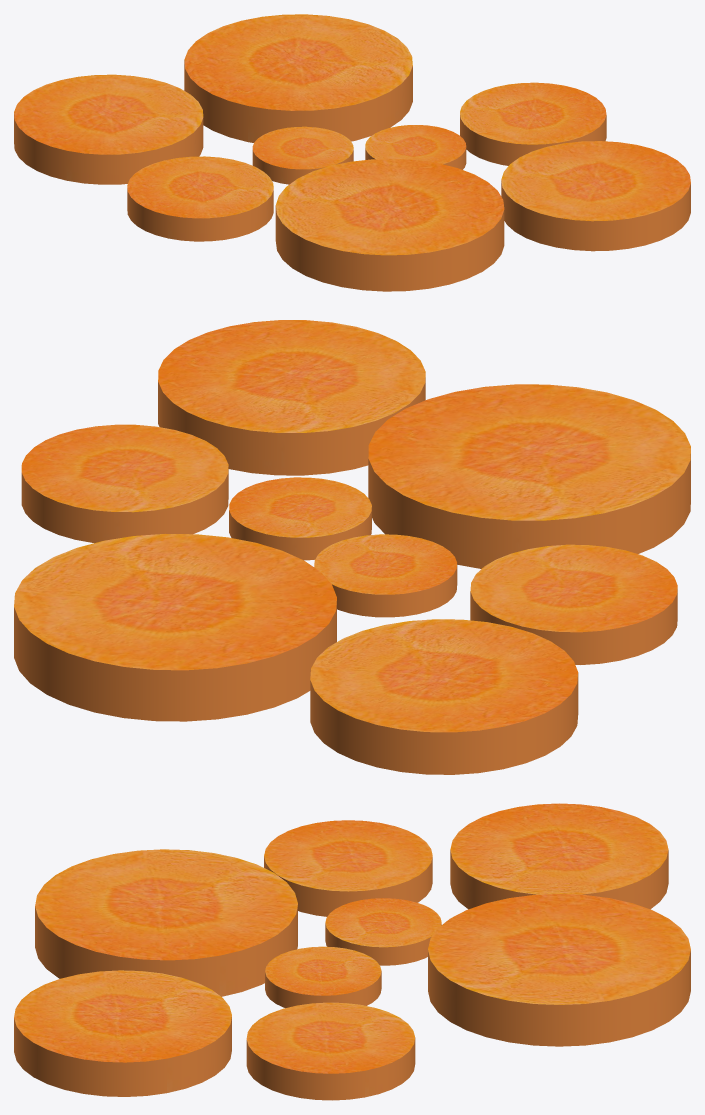
The model's file is potongan wortel-banyak.fbx.
3 renders of one model, top to bottom at view 1: azimuth 30°, elevation 25°; view 2: azimuth 150°, elevation 25°; view 3: azimuth 270°, elevation 25°, orthographic. The views are drawn at different scales.
Visible parts, largest first — view 1: Cylinder.004, Cylinder, Cylinder.005, Cylinder.001, Cylinder.003, Cylinder.007, Cylinder.002, Cylinder.006; view 2: Cylinder, Cylinder.004, Cylinder.001, Cylinder.005, Cylinder.007, Cylinder.003, Cylinder.002, Cylinder.006; view 3: Cylinder, Cylinder.004, Cylinder.005, Cylinder.001, Cylinder.007, Cylinder.003, Cylinder.006, Cylinder.002.
Part boxes in pixels (x1=…): Cylinder.004: x1=275, y1=158, x2=504, y2=291; Cylinder: x1=184, y1=14, x2=412, y2=142; Cylinder.005: x1=501, y1=141, x2=690, y2=251; Cylinder.001: x1=14, y1=74, x2=203, y2=184; Cylinder.003: x1=127, y1=156, x2=273, y2=241; Cylinder.007: x1=460, y1=82, x2=606, y2=165; Cylinder.002: x1=252, y1=126, x2=353, y2=184; Cylinder.006: x1=365, y1=125, x2=466, y2=169; Cylinder: x1=14, y1=534, x2=336, y2=721; Cylinder.004: x1=368, y1=384, x2=690, y2=568; Cylinder.001: x1=310, y1=619, x2=578, y2=774; Cylinder.005: x1=158, y1=320, x2=425, y2=475; Cylinder.007: x1=21, y1=424, x2=228, y2=543; Cylinder.003: x1=470, y1=544, x2=677, y2=664; Cylinder.002: x1=314, y1=534, x2=457, y2=617; Cylinder.006: x1=229, y1=477, x2=371, y2=560; Cylinder: x1=428, y1=894, x2=690, y2=1046; Cylinder.004: x1=35, y1=849, x2=297, y2=996; Cylinder.005: x1=14, y1=970, x2=231, y2=1096; Cylinder.001: x1=450, y1=803, x2=668, y2=909; Cylinder.007: x1=246, y1=1002, x2=415, y2=1100; Cylinder.003: x1=264, y1=820, x2=432, y2=916; Cylinder.006: x1=265, y1=946, x2=381, y2=1008; Cylinder.002: x1=325, y1=898, x2=441, y2=965.
Size of the model in its own units: 475 by 34.91 by 515.
